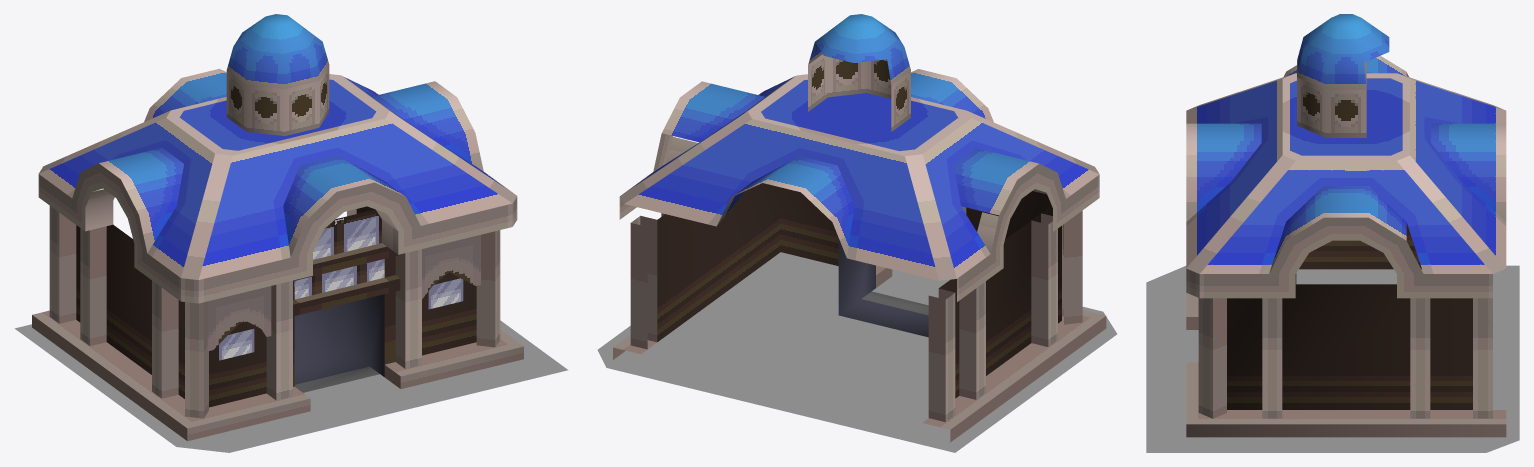
Rendered from MACOSX.glb.
3 views of the same model, side by side, from view 1: azimuth 30°, elevation 25°; view 2: azimuth 150°, elevation 25°; view 3: azimuth 270°, elevation 25° (orthographic). The views are drawn at different scales.
Parts seen in each view (by area): view 1: MACOSX; view 2: MACOSX; view 3: MACOSX.
Part boxes in pixels (x1,y1,x2,y2): MACOSX: (15,14,567,452); MACOSX: (598,14,1116,452); MACOSX: (1146,14,1519,452).
Size of the model in its own units: 133 by 111 by 112.
Materials: 5 (5 with a texture image).
